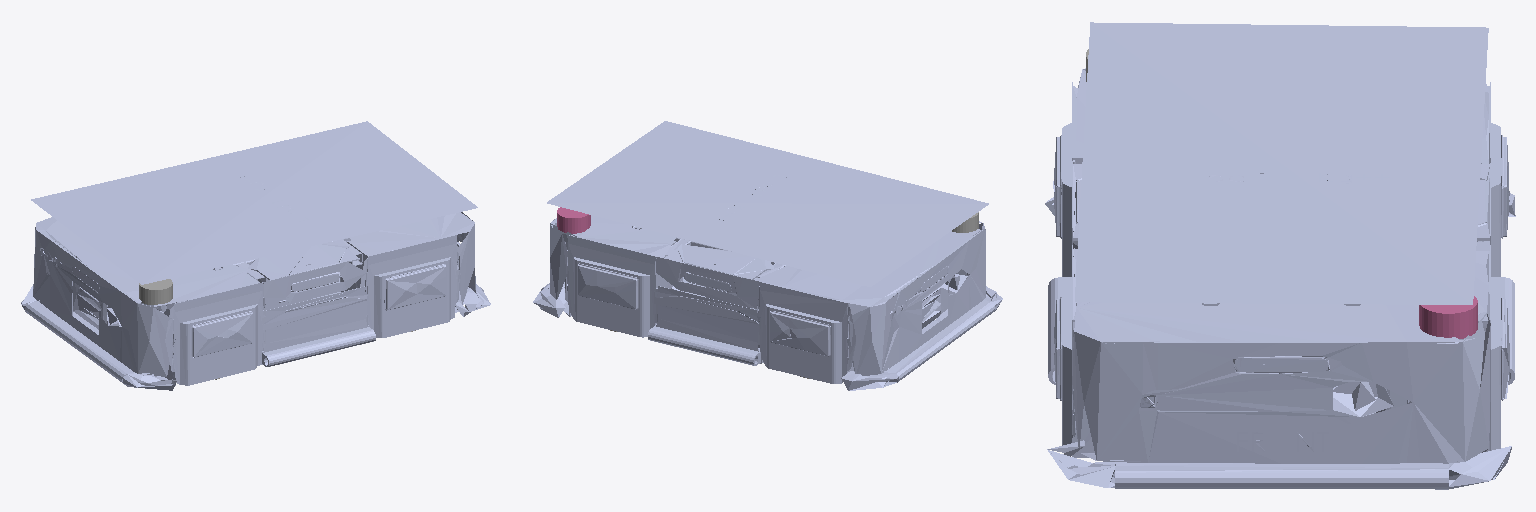
URDF robot description (mecabot):
<?xml version="1.0" encoding="utf-8"?>
<!-- https://myminifactory.github.io/Fast-Quadric-Mesh-Simplification/ -->
<robot name="mecabot">

  <link name="base_footprint"/>

  <joint name="base_footprint_to_base_link" type="fixed">
    <parent link="base_footprint"/>
    <child link="base_link"/>
    <origin xyz="0 0 0.017" rpy="0 0 0"/>
  </joint> 

  <link name="base_link">
    <inertial>
      <origin xyz="-0.0018184 0.0044834 0.11192" rpy="0 0 0" />
      <!-- <origin xyz="0 0 0" rpy="0 0 0" /> -->
      <mass value="13.462" />
      <!-- <mass value="0.00001" /> -->
      <inertia
        ixx="0.094165"
        ixy="0.00032939"
        ixz="9.5703E-07"
        iyy="0.18301"
        iyz="-1.1521E-05"
        izz="0.26421" />
    </inertial>
    <visual>
      <origin
        xyz="0 0 0"
        rpy="0 0 0" />
      <geometry>
        <!-- <box size="0.8 0.4 0.1" /> -->
        <!-- <mesh
          filename="package://mecabot_description/meshes/base_link.STL" /> -->
        
        <mesh
          filename="package://mecabot_description/meshes/simplify_base_link.stl" />

          
      </geometry>
      <material
        name="">
        <color
          rgba="0.79216 0.81961 0.93333 1" />
      </material>
    </visual>
    <collision>
      <origin
        xyz="0 0 0"
        rpy="0 0 0" />
      <geometry>
        <!-- <box size="0.8 0.4 0.1" /> -->
        <mesh
          filename="package://mecabot_description/meshes/simplify_base_link.stl" />
        <!-- <mesh
          filename="package://mecabot_description/meshes/base_link.STL" /> -->
      </geometry>
    </collision>
  </link>
  <link name="left_front_wheel">
    <inertial>
      <origin
        xyz="-4.7947E-07 1.9745E-07 0.041008"
        rpy="0 0 0" />
      <!-- <mass
        value="1.7325" /> -->
      <mass
        value="0.2" />
      <inertia
        ixx="0.0039425"
        ixy="6.0925E-09"
        ixz="6.139E-08"
        iyy="0.0039425"
        iyz="-2.4887E-08"
        izz="0.0062624" />
    </inertial>
    <visual>
      <origin
        xyz="0 0 0"
        rpy="0 0 0" />
      <geometry>
        <mesh
          filename="package://mecabot_description/meshes/left_front_wheel.STL" />
      </geometry>
      <material
        name="">
        <color
          rgba="0.77647 0.75686 0.73725 1" />
      </material>
    </visual>
    <collision>
      <origin
        xyz="0 0 0.04"
        rpy="0 0 0" />
      <geometry>
      
        <cylinder length="0.07" radius="0.09"/>
        <!-- <mesh
          filename="package://mecabot_description/meshes/left_front_wheel.STL" /> -->
      </geometry>
      <!-- <surface>
        
          <friction>
            <ode>
              <mu>10000000.0</mu>
              <mu2>10000000.0</mu2>
              <fdir1>1 0 0</fdir1>
              <slip1>0.0</slip1>
              <slip2>0.0</slip2>
            </ode>
        </friction>
      </surface> -->
    </collision>
  </link>
  <joint
    name="base_link_to_left_front_wheel"
    type="continuous">
    <origin
      xyz="0.23 0.25046 0.0735"
      rpy="1.5708 0 0" />
    <!-- <origin
      xyz="0.23 0.25046 0.0"
      rpy="1.5708 0 0" /> -->
    <parent
      link="base_link" />
    <child
      link="left_front_wheel" />
    <axis
      xyz="0 0 1" />
    <limit
      effort="10.0"
      velocity="100.0" />
  </joint>
  <link
    name="right_front_wheel">
    <inertial>
      <origin
        xyz="6.0145483038454E-10 5.18529396989487E-07 -0.0365083775680031"
        rpy="0 0 0" />
      <!-- <mass
        value="1.7325" /> -->
      <mass
        value="0.2" />
      <inertia
        ixx="0.00394252591369729"
        ixy="-1.10239278458684E-08"
        ixz="4.4040694426611E-10"
        iyy="0.00394252262736816"
        iyz="6.62412528978017E-08"
        izz="0.0062623693571568" />
    </inertial>
    <visual>
      <origin
        xyz="0 0 0"
        rpy="0 0 0" />
      <geometry>
        <mesh
          filename="package://mecabot_description/meshes/right_front_wheel.STL" />
      </geometry>
      <material
        name="">
        <color
          rgba="0.776470588235294 0.756862745098039 0.737254901960784 1" />
      </material>
    </visual>
    <collision>
      <origin
        xyz="0 0 -0.04"
        rpy="0 0 0" />
      <geometry>
        <cylinder length="0.07" radius="0.09"/>
        <!-- <mesh
          filename="package://mecabot_description/meshes/right_front_wheel.STL" /> -->
      </geometry>
      <!-- <surface>
        
          <friction>
            <ode>
              <mu>10000000.0</mu>
              <mu2>10000000.0</mu2>
              <fdir1>1 0 0</fdir1>
              <slip1>0.0</slip1>
              <slip2>0.0</slip2>
            </ode>
        </friction>
      </surface> -->
    </collision>
  </link>
  <joint
    name="base_link_to_right_front_wheel"
    type="continuous">
    <origin
      xyz="0.23 -0.24604 0.0735"
      rpy="1.5708 0 0" />
    <parent
      link="base_link" />
    <child
      link="right_front_wheel" />
    <axis
      xyz="0 0 1" />
    <limit
      effort="10.0"
      velocity="100.0" />
  </joint>
  <link
    name="left_rear_wheel">
    <inertial>
      <origin
        xyz="-4.7947020670458E-07 1.9744762028151E-07 0.0410083775672223"
        rpy="0 0 0" />
      <!-- <mass
        value="1.7325" /> -->
      <mass
        value="0.2" />
      <inertia
        ixx="0.00394251925675899"
        ixy="6.09246594179119E-09"
        ixz="6.13899443516379E-08"
        iyy="0.00394252578615664"
        iyz="-2.48871320413608E-08"
        izz="0.00626236571649836" />
    </inertial>
    <visual>
      <origin
        xyz="0 0 0"
        rpy="0 0 0" />
      <geometry>
        <mesh
          filename="package://mecabot_description/meshes/left_rear_wheel.STL" />
      </geometry>
      <material
        name="">
        <color
          rgba="0.776470588235294 0.756862745098039 0.737254901960784 1" />
      </material>
    </visual>
    <collision>
      <!-- <origin
        xyz="0 0 0"
        rpy="0 0 0" /> -->
      <origin
        xyz="0 0 0.04"
        rpy="0 0 0" />
      <geometry>
        <cylinder length="0.07" radius="0.09"/>
        <!-- <mesh
          filename="package://mecabot_description/meshes/left_rear_wheel.STL" /> -->
      </geometry>
      <!-- <surface>
        
          <friction>
            <ode>
              <mu>10000000.0</mu>
              <mu2>10000000.0</mu2>
              <fdir1>1 0 0</fdir1>
              <slip1>0.0</slip1>
              <slip2>0.0</slip2>
            </ode>
        </friction>
      </surface> -->
    </collision>
  </link>
  <joint
    name="base_link_to_left_rear_wheel"
    type="continuous">
    <origin
      xyz="-0.23 0.25046 0.0735"
      rpy="1.5708 0 0" />
    <parent
      link="base_link" />
    <child
      link="left_rear_wheel" />
    <axis
      xyz="0 0 1" />
    <limit
      effort="10.0"
      velocity="100.0" />
  </joint>
  <link
    name="right_rear_wheel">
    <inertial>
      <origin
        xyz="6.012884634643E-10 5.18529179580063E-07 -0.0410083775679985"
        rpy="0 0 0" />
      <!-- <mass
        value="1.7325" /> -->
      <mass
        value="0.2" />
      <inertia
        ixx="0.00394252591373319"
        ixy="-1.10239514995405E-08"
        ixz="4.4041442628534E-10"
        iyy="0.00394252262734861"
        iyz="6.62412598386314E-08"
        izz="0.00626236935717058" />
    </inertial>
    <visual>
      <origin
        xyz="0 0 0"
        rpy="0 0 0" />
      <geometry>
        <mesh
          filename="package://mecabot_description/meshes/right_rear_wheel.STL" />
      </geometry>
      <material
        name="">
        <color
          rgba="0.776470588235294 0.756862745098039 0.737254901960784 1" />
      </material>
    </visual>
    <collision>
      <origin
        xyz="0 0 -0.04"
        rpy="0 0 0" />
      <geometry>
        <cylinder length="0.07" radius="0.09"/>
        <!-- <mesh
          filename="package://mecabot_description/meshes/right_rear_wheel.STL" /> -->
      </geometry>
      <!-- <surface>
       
          <friction>
            <ode>
              <mu>10000000.0</mu>
              <mu2>10000000.0</mu2>
              <fdir1>1 0 0</fdir1>
              <slip1>0.0</slip1>
              <slip2>0.0</slip2>
            </ode>
        </friction>
      </surface> -->
    </collision>
  </link>
  <joint
    name="base_link_to_right_rear_wheel"
    type="continuous">
    <!-- fixed -->
    <!-- continuous -->
    <origin
      xyz="-0.23 -0.25054 0.0735"
      rpy="1.5708 0 0" />
    <parent
      link="base_link" />
    <child
      link="right_rear_wheel" />
    <axis
      xyz="0 0 1" />
    <limit
      effort="10.0"
      velocity="100.0" />
  </joint>

  <gazebo>
    <plugin name="object_controller" filename="libgazebo_ros_planar_move.so">
       
      <commandTopic>cmd_vel</commandTopic>
      <odometryTopic>odom/unfiltered</odometryTopic>
      
      <ros>    
        <!-- <remapping>/tf:=tf</remapping> 
        <remapping>/tf_static:=tf_static</remapping>  -->
        <!-- <robotNamespace><remapping>/tf:=tf</remapping>  </robotNamespace> -->
        <remapping>odom:=odom/unfiltered</remapping>   
      </ros>

    
      <odometryRate>20</odometryRate>
    
      <publish_rate>10</publish_rate>

      
      <!-- <publish_odom>true</publish_odom> -->
      <!-- <publish_odom_tf>true</publish_odom_tf> -->

     
      <!-- <odometryFrame>odom</odometryFrame> -->
      <odometry_frame>odom</odometry_frame>

      <!-- <robotBaseFrame>base_link</robotBaseFrame> -->
      <robot_base_frame>base_footprint</robot_base_frame>
      <publish_odom>true</publish_odom>
      <!-- <publish_odom>false</publish_odom> -->
      <publish_odom_tf>false</publish_odom_tf>
      <!-- <publish_odom_tf>true</publish_odom_tf> -->

      
      <!-- <covariance_x>0.0001</covariance_x>
      <covariance_y>0.0001</covariance_y>
      <covariance_yaw>0.01</covariance_yaw> -->

      <leftFrontJoint>base_link_to_left_front_wheel</leftFrontJoint>
      <rightFrontJoint>base_link_to_right_front_wheel</rightFrontJoint>
      <leftRearJoint>base_link_to_left_rear_wheel</leftRearJoint>
      <rightRearJoint>base_link_to_right_rear_wheel</rightRearJoint>

    </plugin>  
  </gazebo>
  <!-- <gazebo>
    <plugin name="gazebo_ros_mecanum_diff_drive" filename="libgazebo_ros_mecanum_diff_drive.so">
      <commandTopic>cmd_vel</commandTopic>
      <odometryTopic>odom</odometryTopic>
      <odometryFrame>odom</odometryFrame>
      <robotBaseFrame>base_footprint</robotBaseFrame>
     
      <LeftRear>base_link_to_left_rear_wheel</LeftRear>
      <LeftFront>base_link_to_left_front_wheel</LeftFront>
      <RightFront>base_link_to_right_front_wheel</RightFront>
      <RightRear>base_link_to_right_rear_wheel</RightRear>
      <odometryRate>20</odometryRate>      
      <publishWheelTF>true</publishWheelTF>
      <publishWheelJointState>true</publishWheelJointState>
      <WheelTorque>1</WheelTorque>
      <WheelSeparationW>0.5</WheelSeparationW>
      <WheelSeparationL>0.6</WheelSeparationL>
      <wheelAccel>5</wheelAccel>
      <wheelDiameter>0.13</wheelDiameter>
      <publishOdom>false</publishOdom>
      <isRollerModel>true</isRollerModel>
    </plugin>
  </gazebo> -->

  <!-- <gazebo>
    <plugin name="rosa_controller" filename="libgazebo_ros_omni_drive.so">
      <commandTopic>cmd_vel</commandTopic>
      <odometryTopic>odom</odometryTopic>
      <odometryFrame>odom</odometryFrame>
      <odometryRate>20.0</odometryRate>
      <robotBaseFrame>base_link</robotBaseFrame>
      <wheel_radius>0.09</wheel_radius>
      <base_length>0.496</base_length>
      <base_width>0.46</base_width>
      <front_left_joint>base_link_to_left_front_wheel</front_left_joint>
      <front_right_joint>base_link_to_right_front_wheel</front_right_joint>
      <rear_left_joint>base_link_to_left_rear_wheel</rear_left_joint>
      <rear_right_joint>base_link_to_right_rear_wheel</rear_right_joint>
      <wheel_max_speed> 20.0 </wheel_max_speed>
      <wheel_acceleration> 20.0</wheel_acceleration>
      <joint_config>-1 -1 -1 -1</joint_config>
    </plugin>
  </gazebo> -->


  <joint name="front_lidar_joint" type="fixed">
    <parent link="base_link"/>
    <child link="front_lidar"/>
    <origin rpy="0 0 0" xyz="0.35 0.2 0.2"/>
    <axis xyz="0 0 1"/>
  </joint> 
  <link name="front_lidar">
    <visual>
      <!-- <origin rpy="0 0 0" xyz="0 0 0.385"/> -->
      <geometry>
        <!-- <cylinder length="0.6" radius="0.2"/> -->
        <cylinder length="0.035" radius="0.035"/>
      </geometry>
      <material name="blue"/>
    </visual>
  </link>

  <joint name="rear_lidar_joint" type="fixed">
    <parent link="base_link"/>
    <child link="rear_lidar"/>
    <origin rpy="0 0 3.1416" xyz="-0.35 -0.2 0.2"/>
    <axis xyz="0 0 1"/>
  </joint> 
  <link name="rear_lidar">
    <visual>
      <!-- <origin rpy="0 0 0" xyz="0 0 0.385"/> -->
      <geometry>
        <!-- <cylinder length="0.6" radius="0.2"/> -->
        <cylinder length="0.035" radius="0.035"/>
      </geometry>
      <material name="blue"/>
    </visual>
  </link>

  <link name="imu_link">
  </link>
  <joint name="imu_joint" type="fixed">
    <parent link="base_link"/>
    <child link="imu_link"/>
    <!-- <origin rpy="0 0 0.0" xyz="0 0 0"/>
    <axis xyz="0 0 1"/> -->
  </joint> 


  <!-- front LiDAR controller -->
  <gazebo reference="front_lidar">
    <sensor type="ray" name="RPLIDAR_s3_front_sensor">
      <pose>0 0 0 0 0 0</pose>
      <always_on>true</always_on>
      <visualize>true</visualize>
      <update_rate>10</update_rate>
      <ray>
        <scan>
          <horizontal>
            <samples>500</samples>
            <resolution>1</resolution>
            <min_angle>-1.57</min_angle>
            <max_angle>3.1416</max_angle>
            <!-- <max_angle>1.57</max_angle> -->
          </horizontal>
        </scan>
        <range>
          <min>0.10</min>
          <max>30.0</max>
          <resolution>0.01</resolution>
        </range>
        <noise>
          <type>gaussian</type>
          <mean>0.0</mean>
          <stddev>0.01</stddev>
        </noise>
      </ray>
      <plugin name="gazebo_ros_lidar_front_controller" filename="libgazebo_ros_ray_sensor.so">
        <ros>
            <!-- <namespace>/tb3</namespace> -->
            <remapping>~/out:=/laser/front</remapping>
          </ros>
        <output_type>sensor_msgs/LaserScan</output_type>
        <frame_name>front_lidar</frame_name>
      </plugin>
    </sensor>
  </gazebo>

  <!-- rear LiDAR controller -->
  <gazebo reference="rear_lidar">
    <sensor type="ray" name="RPLIDAR_s3_rear_sensor">
      <pose>0 0 0 0 0 0</pose>
      <always_on>true</always_on>
      <visualize>true</visualize>
      <update_rate>10</update_rate>
      <ray>
        <scan>
          <horizontal>
            <samples>500</samples>
            <resolution>1</resolution>
            <min_angle>-1.57</min_angle>
            <max_angle>3.1416</max_angle>
            <!-- <max_angle>1.57</max_angle> -->
          </horizontal>
        </scan>
        <range>
          <min>0.10</min>
          <max>30.0</max>
          <resolution>0.01</resolution>
        </range>
        <noise>
          <type>gaussian</type>
          <mean>0.0</mean>
          <stddev>0.01</stddev>
        </noise>
      </ray>
      <plugin name="gazebo_ros_lidar_rear_controller" filename="libgazebo_ros_ray_sensor.so">
        <ros>
            <!-- <namespace>/tb3</namespace> -->
            <remapping>~/out:=/laser/rear</remapping>
          </ros>
        <output_type>sensor_msgs/LaserScan</output_type>
        <frame_name>rear_lidar</frame_name>
      </plugin>
    </sensor>
  </gazebo>

  <gazebo reference="imu_link">
    <sensor name="mecabot_imu" type="imu">
      <always_on>true</always_on>
      <update_rate>50</update_rate>
      <!-- <imu>
        <angular_velocity>
          <x>
            <noise type="gaussian">
              <mean>0.0</mean>
              <stddev>2e-4</stddev>
            </noise>
          </x>
          <y>
            <noise type="gaussian">
              <mean>0.0</mean>
              <stddev>2e-4</stddev>
            </noise>
          </y>
          <z>
            <noise type="gaussian">
              <mean>0.0</mean>
              <stddev>2e-4</stddev>
            </noise>
          </z>
        </angular_velocity>
        <linear_acceleration>
          <x>
            <noise type="gaussian">
              <mean>0.0</mean>
              <stddev>1.7e-2</stddev>
            </noise>
          </x>
          <y>
            <noise type="gaussian">
              <mean>0.0</mean>
              <stddev>1.7e-2</stddev>
            </noise>
          </y>
          <z>
            <noise type="gaussian">
              <mean>0.0</mean>
              <stddev>1.7e-2</stddev>
            </noise>
          </z>
        </linear_acceleration>
      </imu> -->
      <plugin name="mecabot_imu" filename="libgazebo_ros_imu_sensor.so">
        <!-- <frameName>imu_link</frameName> -->
        <frame_name>imu_link</frame_name>
        <!-- <bodyName>imu_link</bodyName> -->
        <ros>
          <!-- <namespace>/tb3</namespace> -->
          <remapping>~/out:=imu</remapping>
          <!-- <frameName>imu_link</frameName> -->
          <!-- <frame_name>imu_link</frame_name> -->
        </ros>
        
        
      </plugin>
    </sensor>
  </gazebo>
</robot>

--- Facts derived from the render (not from the file) ---
3 views of the same robot in one strip: view 1: azimuth 30°, elevation 25°; view 2: azimuth 150°, elevation 25°; view 3: azimuth 270°, elevation 25° (orthographic).
Robot: mecabot — 9 links, 8 joints (4 continuous, 4 fixed); root link base_footprint; default pose: every joint at zero.
Visible links, largest first — view 1: base_link, rear_lidar; view 2: base_link, front_lidar; view 3: base_link, front_lidar.
Link boxes in pixels (x1,y1,x2,y2): base_link: (21,121,490,390); rear_lidar: (139,279,172,304); base_link: (533,121,1002,390); front_lidar: (557,207,590,233); base_link: (1045,22,1515,489); front_lidar: (1419,296,1477,338).
Bounding box of the posed robot: 0.8628 × 0.5645 × 0.2546 m (x, y, z).
5 mesh visuals loaded from 5 distinct referenced files (5 binary STL).
